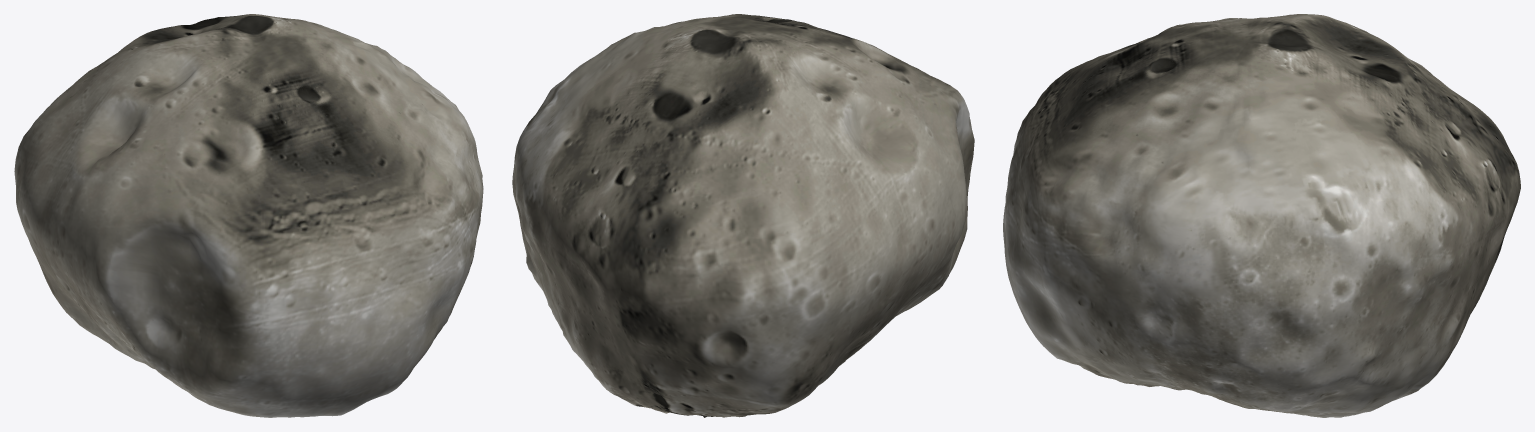
File: phobos.glb
3 views of the same model, side by side, from view 1: azimuth 30°, elevation 25°; view 2: azimuth 150°, elevation 25°; view 3: azimuth 270°, elevation 25° (orthographic). The views are drawn at different scales.
Parts seen in each view (by area): view 1: phobos; view 2: phobos; view 3: phobos.
Part boxes in pixels (bbox=[...]): phobos: bbox=[14, 14, 483, 417]; phobos: bbox=[512, 14, 974, 417]; phobos: bbox=[1003, 14, 1520, 417].
Bounding box in the file's own units: 24.37 × 20.52 × 27.04.
Materials: 1 (1 with a texture image).
